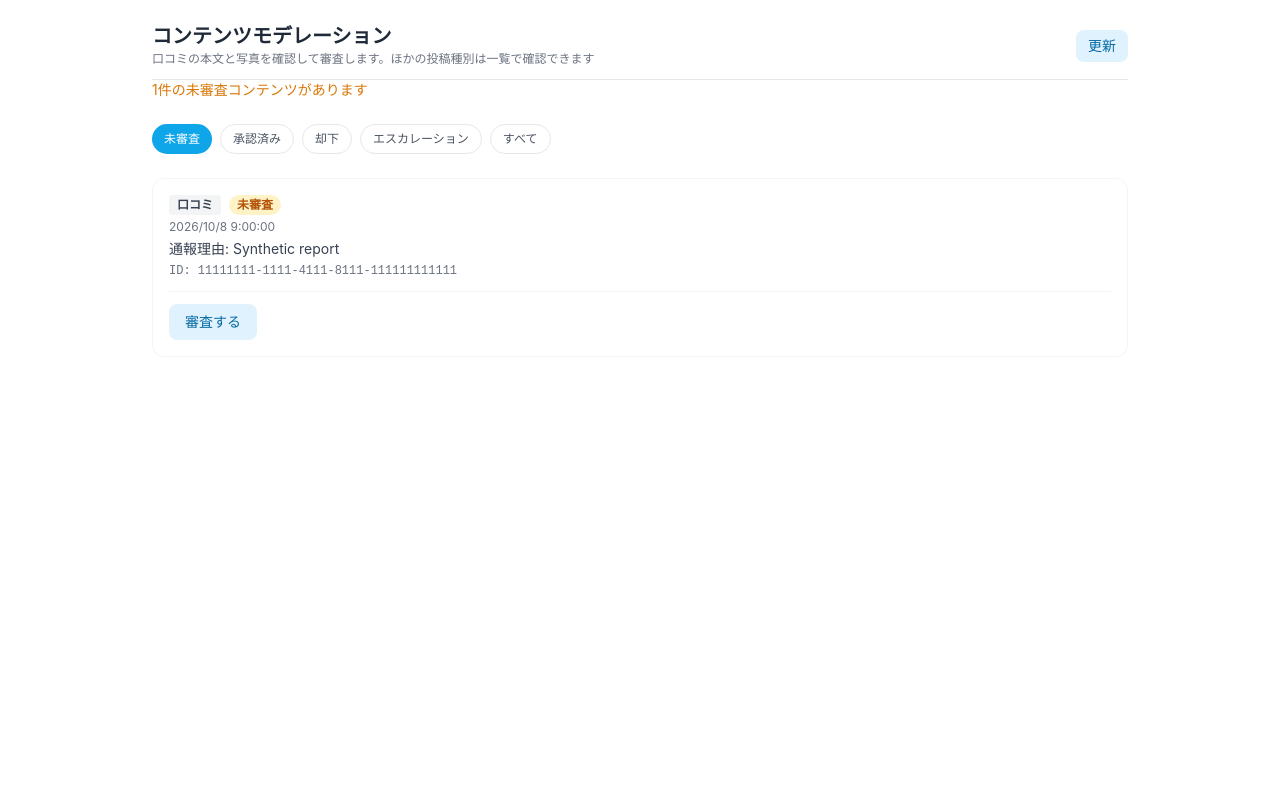
moderation request carries the original displayed status alongside decision/note
Step 1. Click the button "審査する" → (213, 322), box [169,304,257,340]
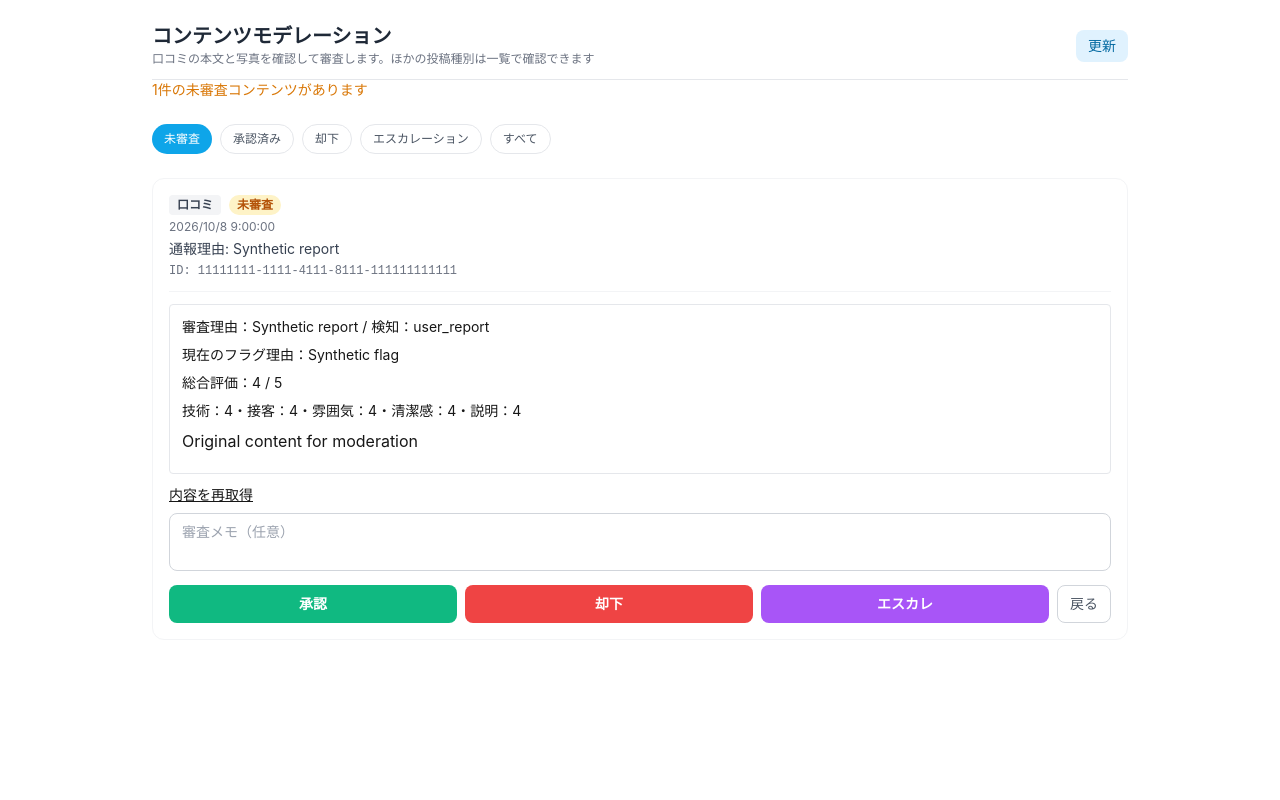
Check: the text "Original content for moderation" is shown, box [182,431,418,451]
Step 2. Type "Synthetic decision" into the text box with placeholder "審査メモ（任意）" → (640, 542), box [169,513,1111,571]
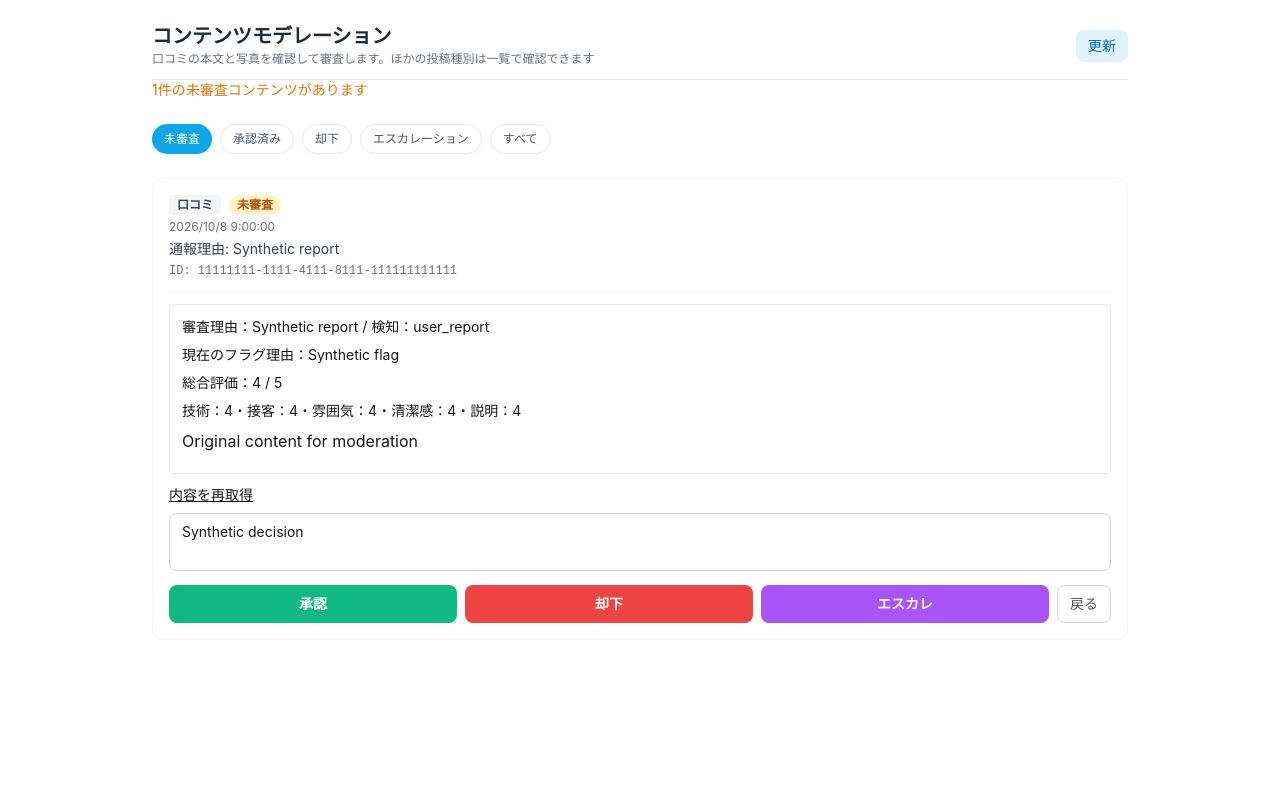
Step 3. Click the button "却下" below "Original content for moderation" → (609, 604), box [465,585,753,623]
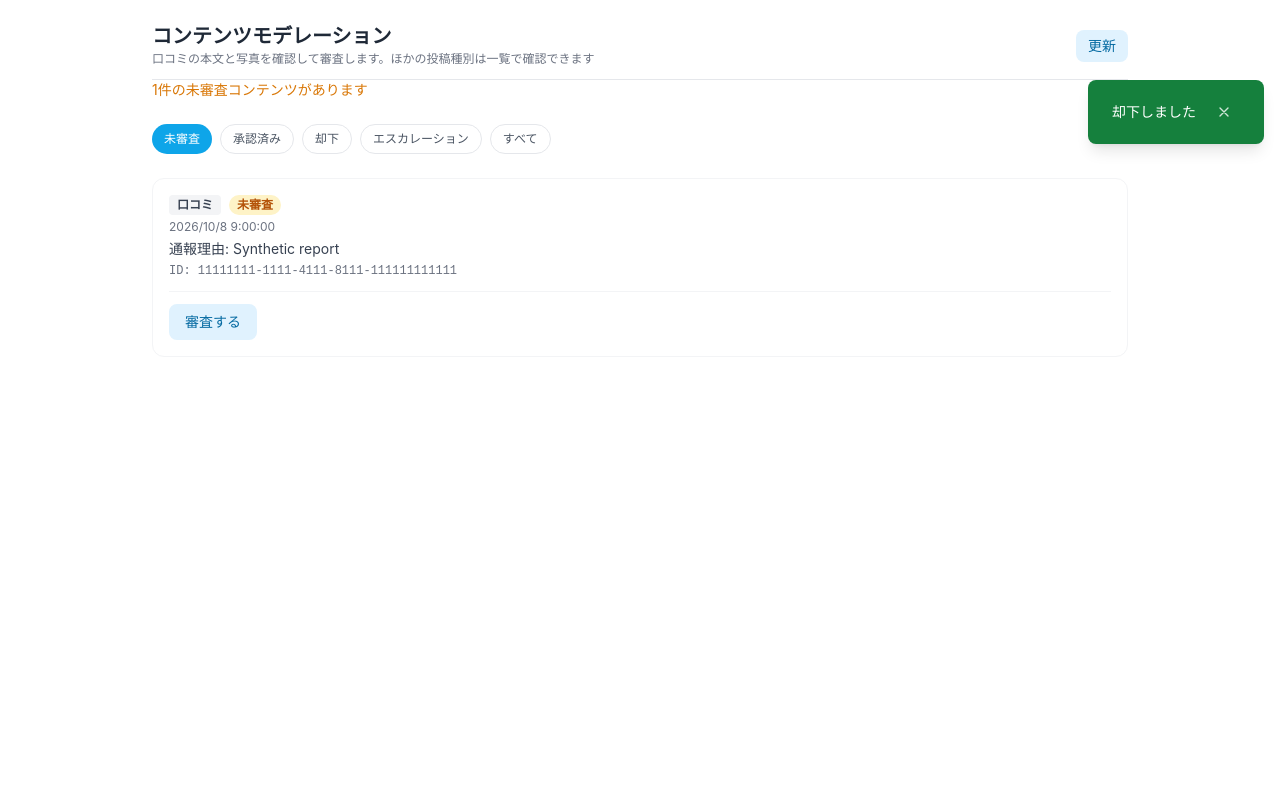
Check: the text "却下しました" is shown, box [1112,102,1196,122]
